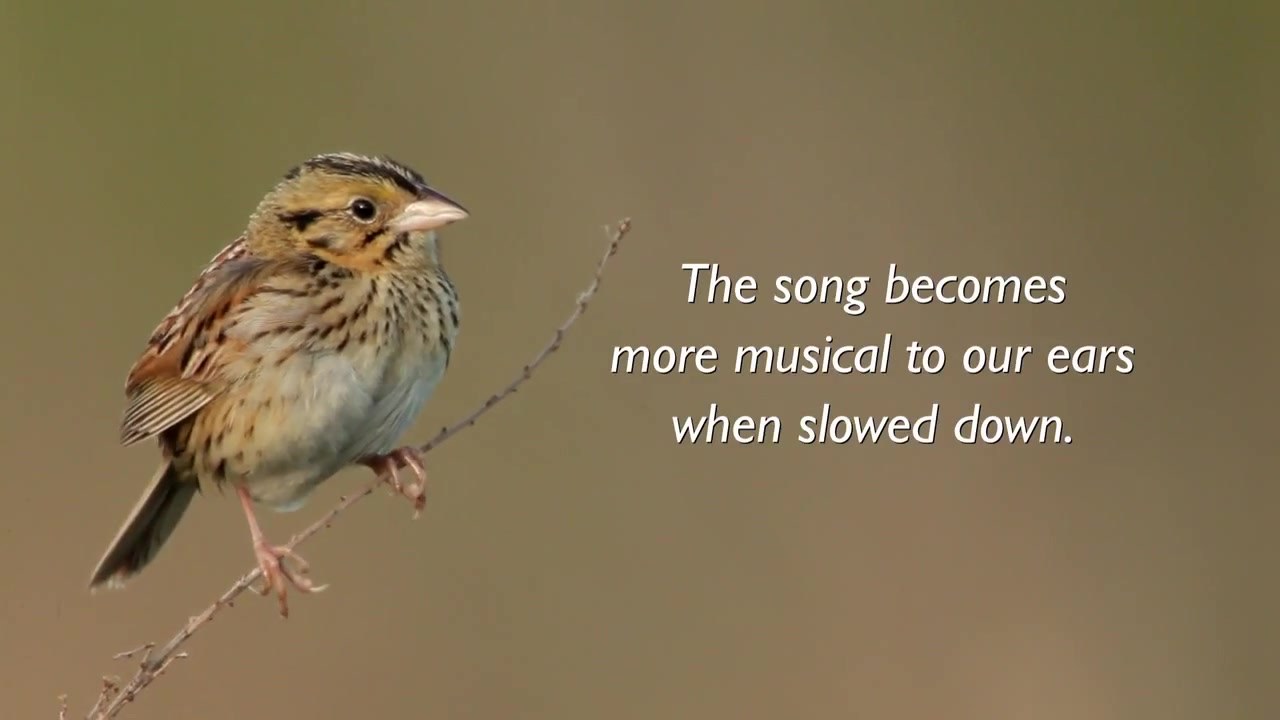bird: (87, 152, 472, 621)
